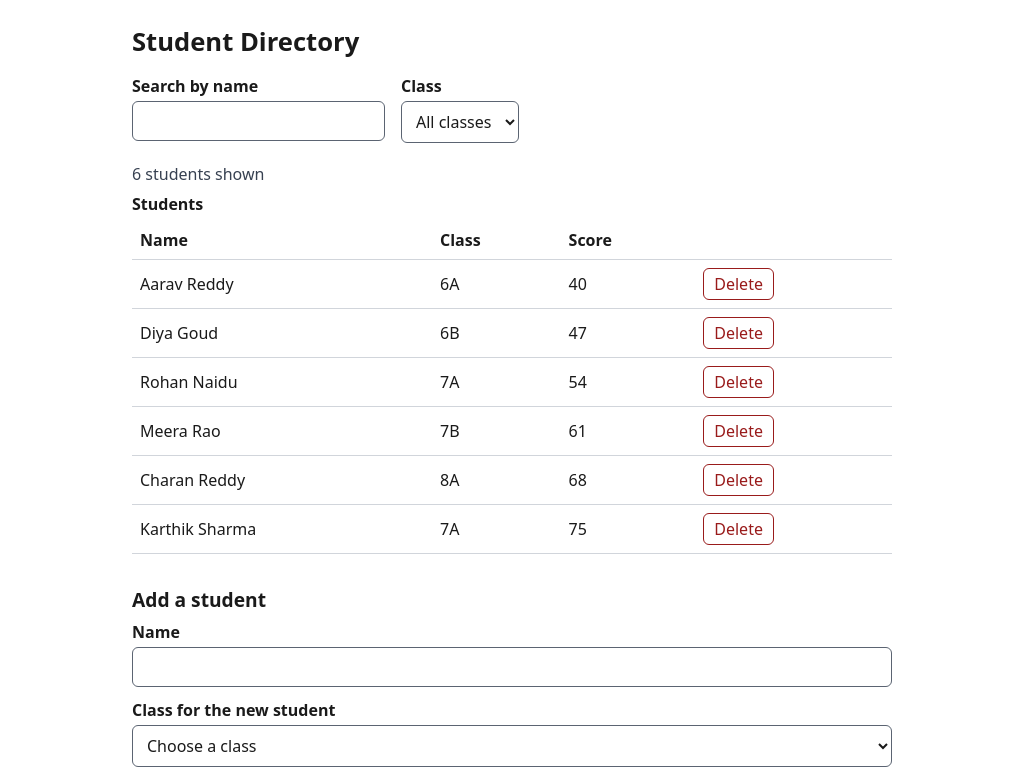
Test: adding a student › a dead network while adding says so, and nothing was added
expect the table is shown: met, box [132,193,892,554]
Type "Zara Khan" into the field labelled "Name" at (512, 667), box [132,647,892,687]
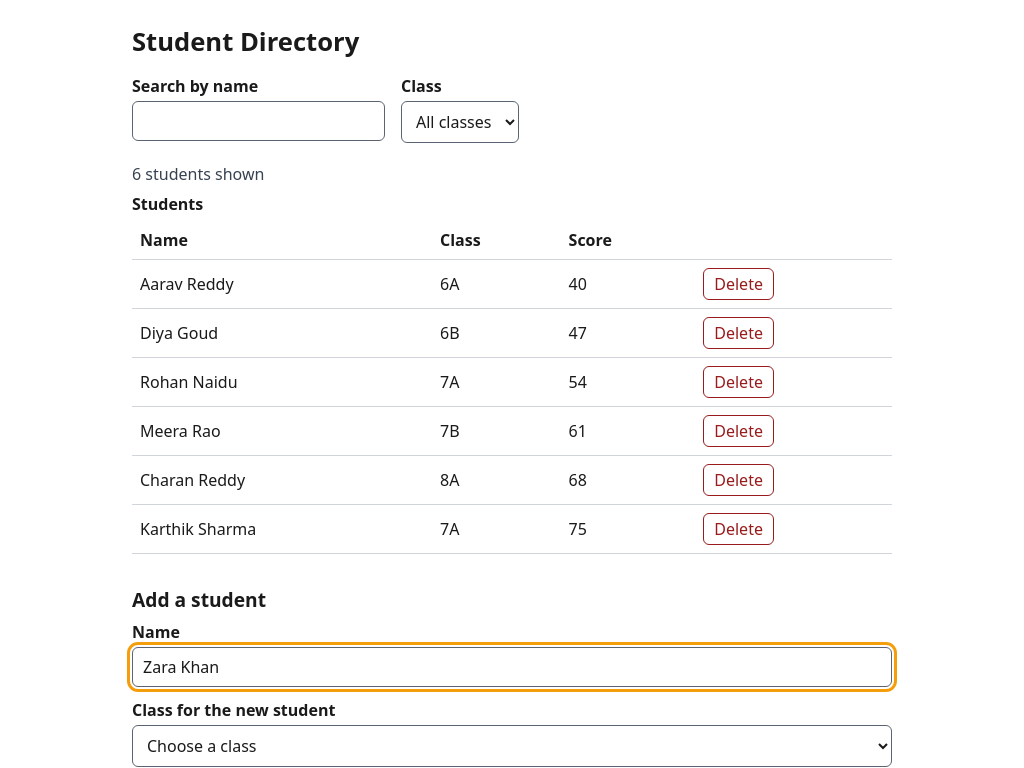
Select "8A" in the dropdown labelled "Class for the new student" at (512, 746), box [132,725,892,767]
(page scrolled)
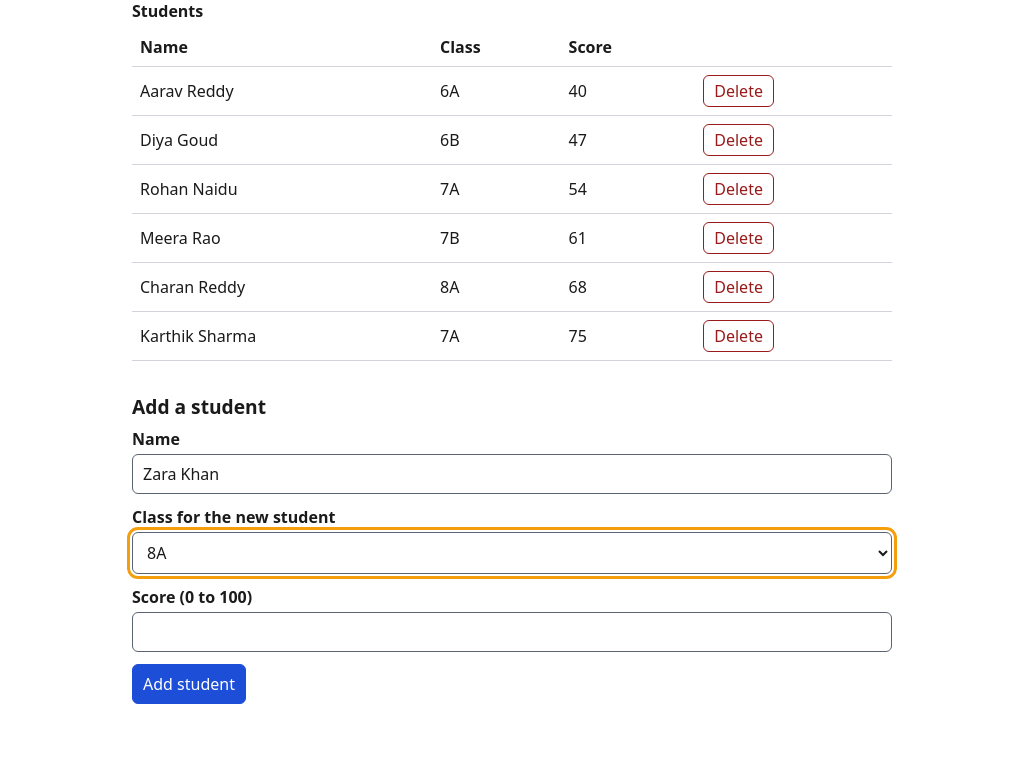
Type "5" into the field labelled "Score (0 to 100)" at (512, 632), box [132,612,892,652]
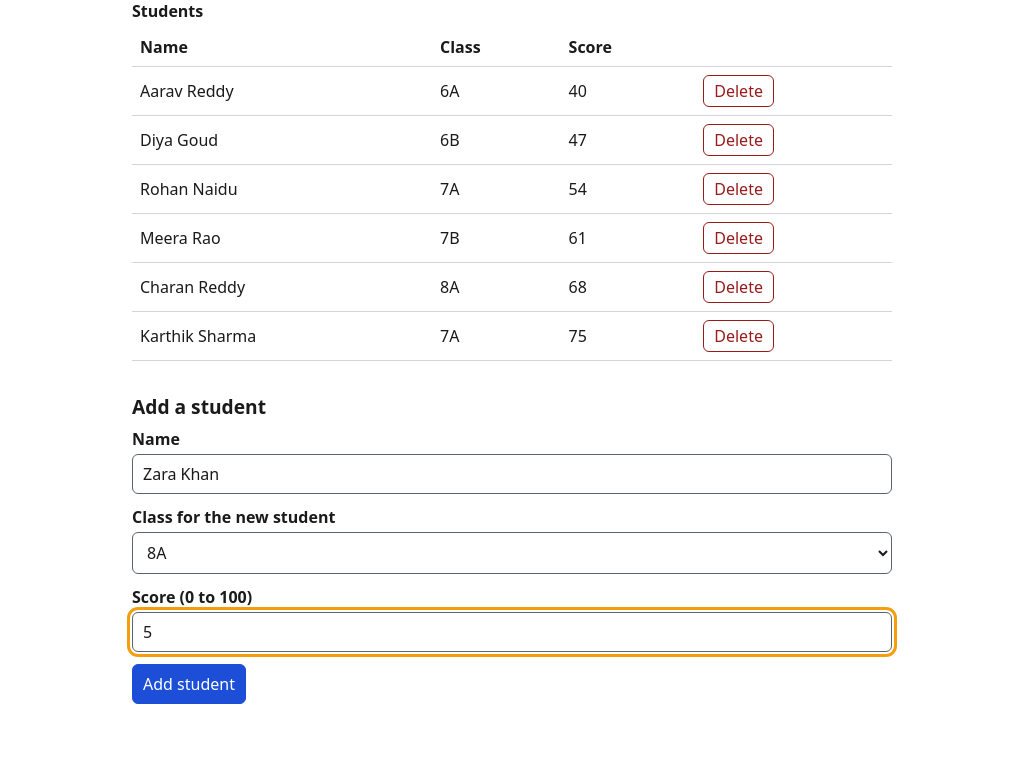
Click the button "Add student" at (189, 684), box [132,664,246,704]
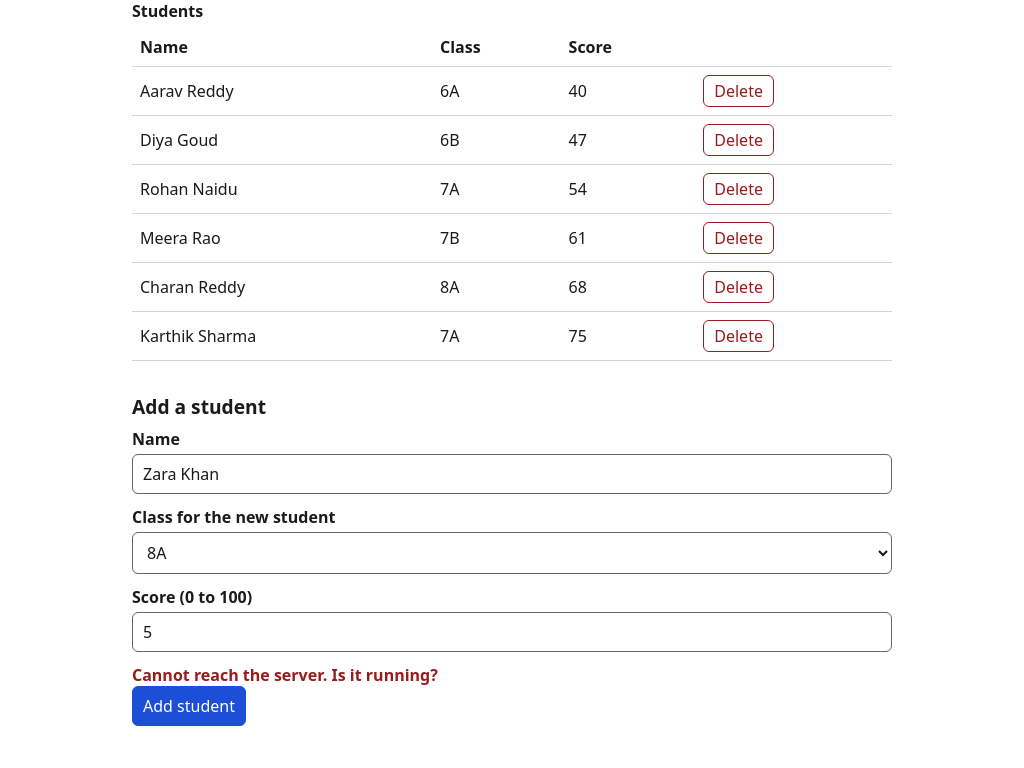
expect the text "Zara Khan" is not shown: met
expect the message reads "Cannot reach the server. Is it running?": met, box [132,664,438,686]
